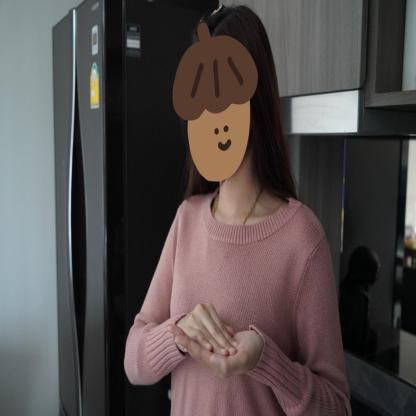Love: (153, 295, 291, 384)
